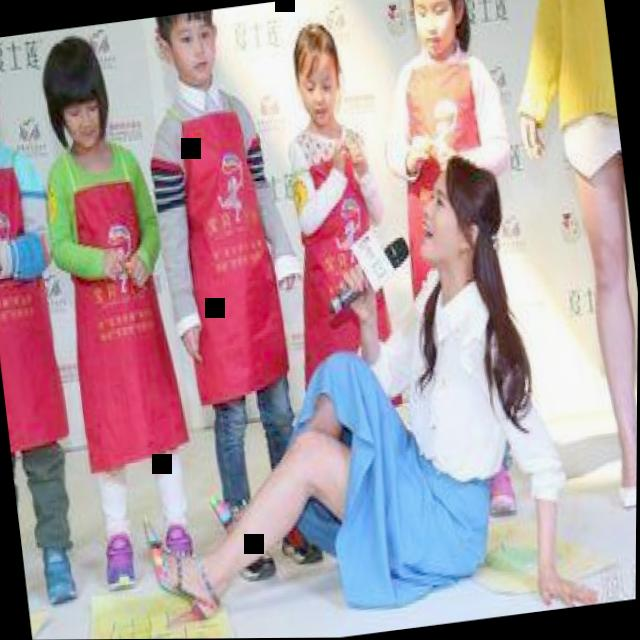Fall-Detected: (87, 129, 593, 639)
